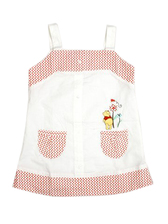clothoes: (13, 22, 155, 196)
